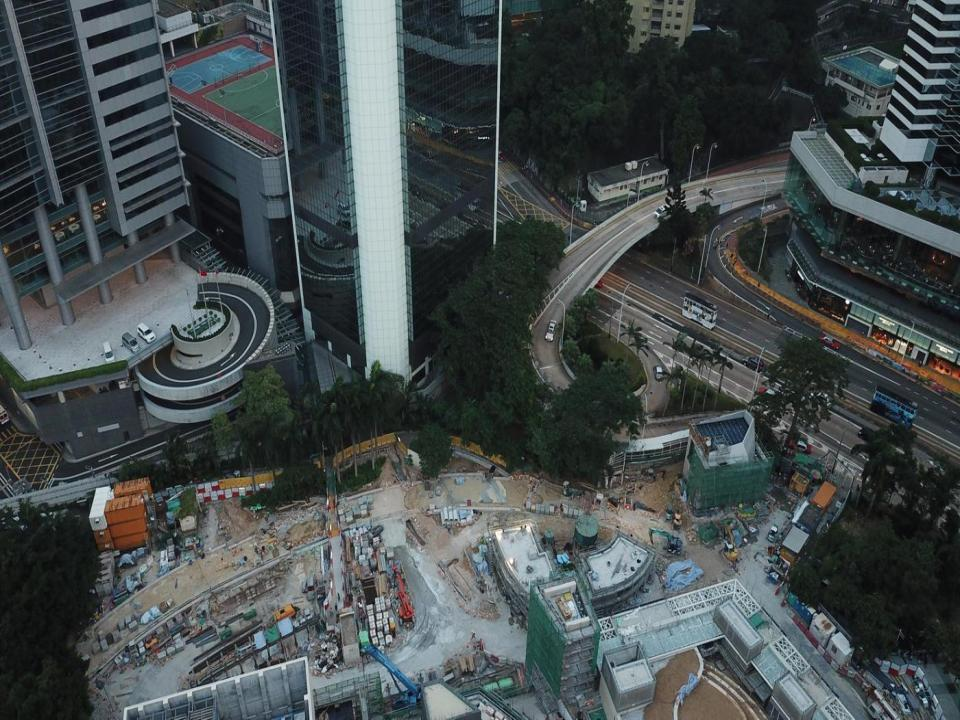bus: (871, 384, 917, 425), (682, 293, 717, 329)
car: (804, 389, 834, 410), (784, 433, 812, 453), (756, 385, 783, 404), (817, 332, 843, 350), (653, 203, 673, 222), (544, 317, 556, 341), (652, 362, 662, 380), (496, 148, 507, 162), (769, 526, 776, 544)
van: (136, 322, 155, 344), (742, 352, 762, 372), (120, 332, 140, 352), (0, 405, 12, 427), (104, 340, 114, 364)
